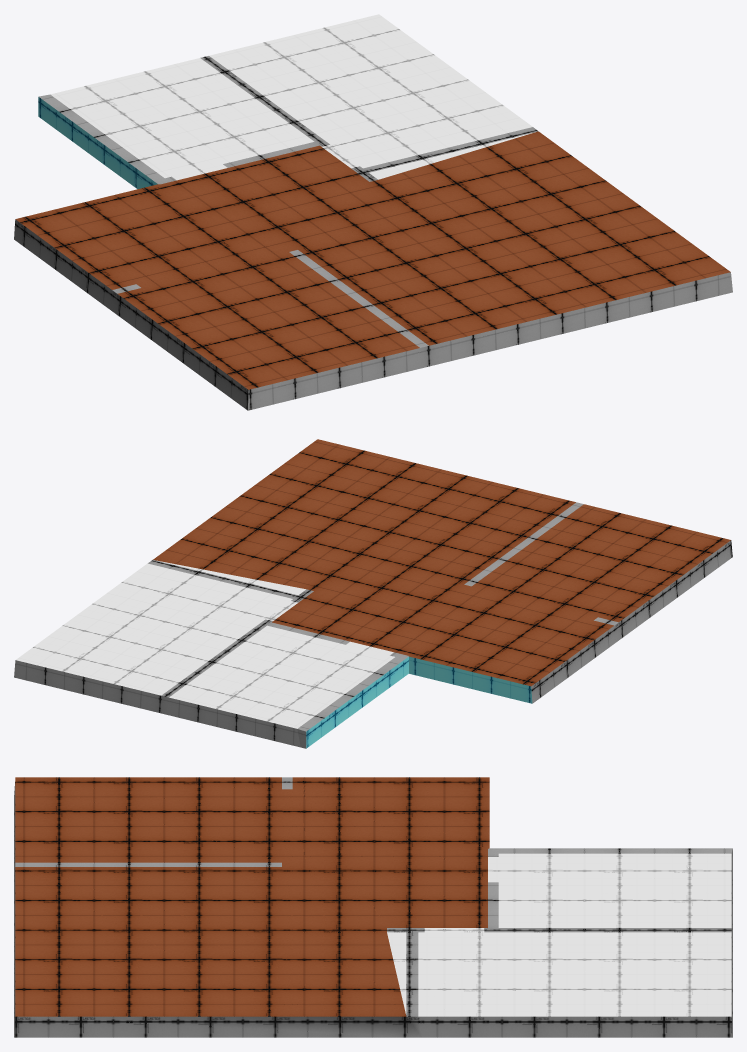
File: Casa_INTERIOR_suelo_primera.fbx
3 views of the same model, one above another, from view 1: azimuth 30°, elevation 25°; view 2: azimuth 150°, elevation 25°; view 3: azimuth 270°, elevation 25° (orthographic). The views are drawn at different scales.
Visible parts, largest first — view 1: Casa_INTERIOR_suelo_primera; view 2: Casa_INTERIOR_suelo_primera; view 3: Casa_INTERIOR_suelo_primera.
Part boxes in pixels (bbox=[...]): Casa_INTERIOR_suelo_primera: bbox=[14, 14, 732, 410]; Casa_INTERIOR_suelo_primera: bbox=[14, 439, 732, 748]; Casa_INTERIOR_suelo_primera: bbox=[14, 777, 732, 1037].
Bounding box in the file's own units: 9.86 × 0.3892 × 12.45.
